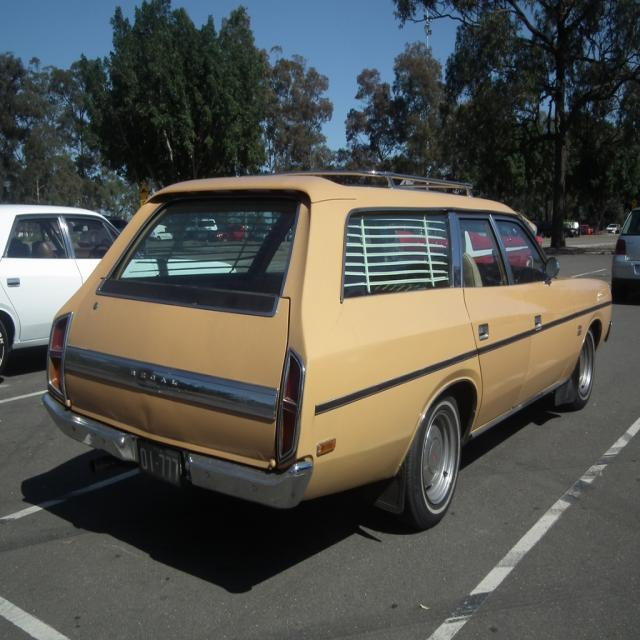car: (28, 175, 601, 547)
